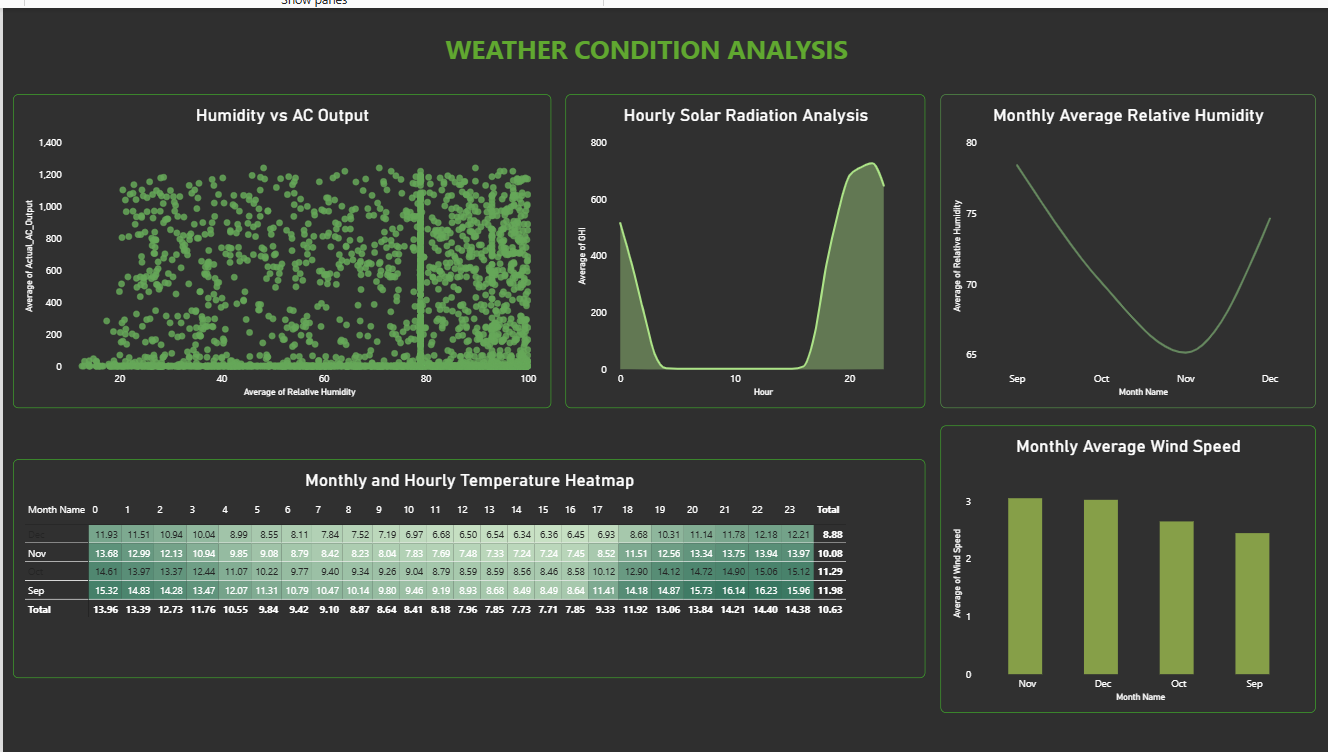

This screenshot's page, from the dashboard's own definition file:
{"tool":"powerbi","page":{"name":"Weather Analysis","canvas":[1920,1080],"ordinal":2},"visuals":[{"type":"textbox","box":[564.8,30.3,588.6,71.4],"z":0},{"type":"scatterChart","title":"Humidity vs AC Output","fields":{"Category":["Renewable_Energyy.Timestamp"],"X":["Avg(Renewable_Energyy.Relative Humidity)"],"Y":["Avg(Renewable_Energyy.Actual_AC_Output)"]},"box":[14.5,124.9,779.1,454.5],"z":1000},{"type":"pivotTable","title":"Monthly and Hourly Temperature Heatmap","fields":{"Columns":["Renewable_Energyy.Hour"],"Rows":["Renewable_Energyy.Month Name"],"Values":["Avg(Renewable_Energyy.Temperature)"]},"box":[14.5,642.4,1321.1,327.5],"z":2000},{"type":"areaChart","title":"Hourly Solar Radiation Analysis","fields":{"Category":["Renewable_Energyy.Hour"],"Y":["Avg(Renewable_Energyy.GHI)"]},"box":[814.3,124.9,521.2,454.2],"z":3000},{"type":"clusteredColumnChart","title":"Monthly Average Wind Speed","fields":{"Category":["Renewable_Energyy.Month Name"],"Y":["Avg(Renewable_Energyy.Wind Speed)"]},"box":[1357.2,604.4,542.9,416.2],"z":4000},{"type":"lineChart","title":"Monthly Average Relative Humidity","fields":{"Category":["Renewable_Energyy.Month Name"],"Y":["Avg(Renewable_Energyy.Relative Humidity)"]},"box":[1357.2,124.9,542.9,454.2],"z":5000}]}

Visuals, with their boxes on the page's 1920x1080 design canvas (x1, y1, x2, y2). These are canvas units, not pixel positions in the 1328x752 screenshot, which may show the page scaled, cropped or inside an application window:
textbox: x1=565, y1=30, x2=1153, y2=102
"Humidity vs AC Output" scatterChart: x1=14, y1=125, x2=794, y2=579
"Monthly and Hourly Temperature Heatmap" pivotTable: x1=14, y1=642, x2=1336, y2=970
"Hourly Solar Radiation Analysis" areaChart: x1=814, y1=125, x2=1336, y2=579
"Monthly Average Wind Speed" clusteredColumnChart: x1=1357, y1=604, x2=1900, y2=1021
"Monthly Average Relative Humidity" lineChart: x1=1357, y1=125, x2=1900, y2=579
